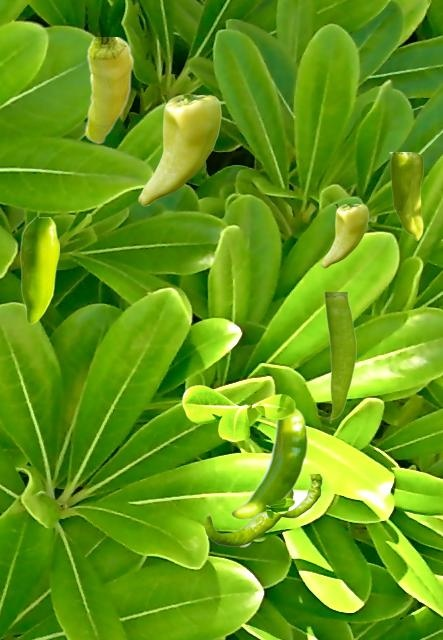green_chili: (138, 95, 220, 205), (230, 407, 307, 519), (84, 37, 133, 143), (204, 490, 294, 546), (323, 292, 355, 418), (20, 217, 58, 323), (321, 204, 367, 267), (389, 152, 422, 239), (278, 474, 321, 517)
